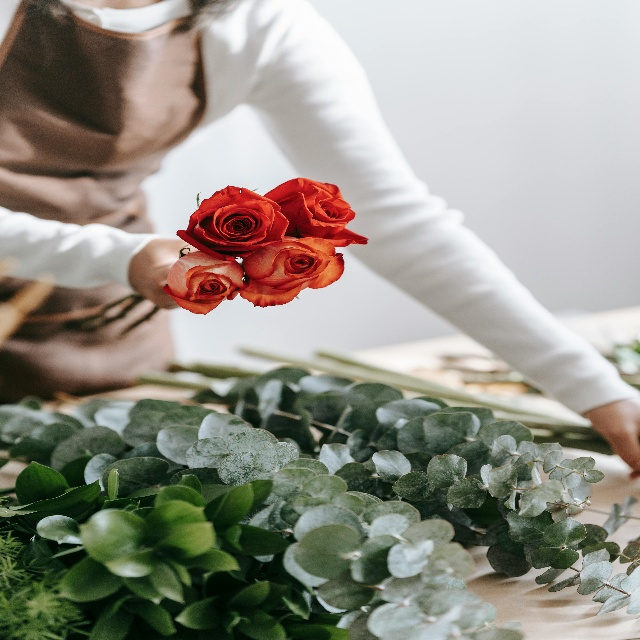Sin_guantes: (128, 236, 199, 309), (582, 396, 640, 479)
